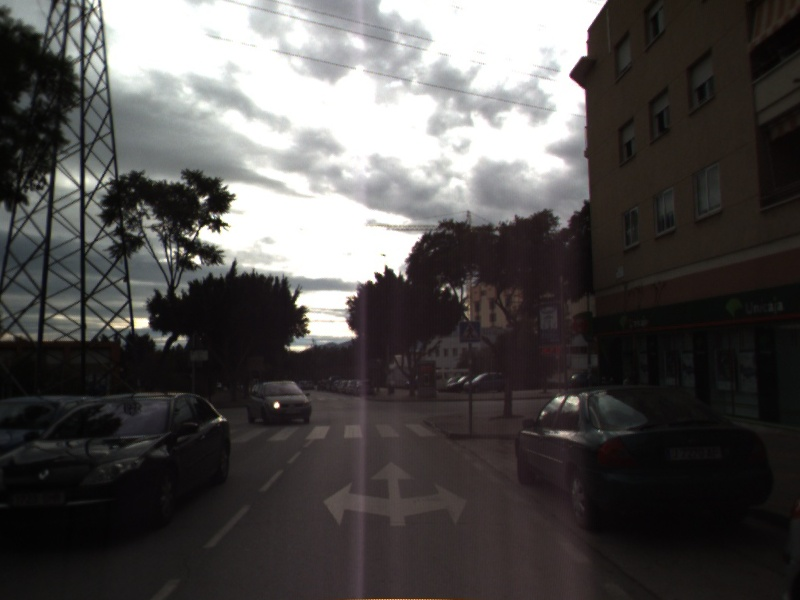STRAIGHT_LEFT_RIGHT: (321, 459, 469, 529)
